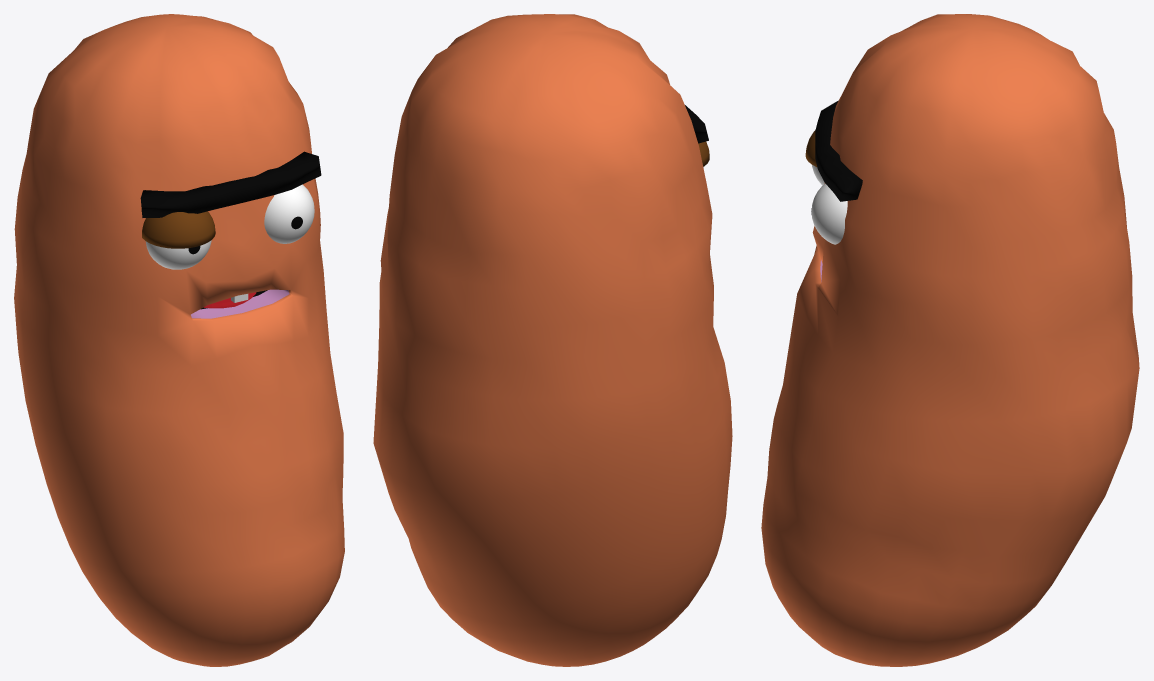
File: Potato.fbx
The picture shows the model from 3 angles, left to right: view 1: azimuth 30°, elevation 25°; view 2: azimuth 150°, elevation 25°; view 3: azimuth 270°, elevation 25°; orthographic projection. The views are drawn at different scales.
Parts seen in each view (by area): view 1: PotatoBody, Cube, Sphere, EyeRight, EyeLeft; view 2: PotatoBody; view 3: PotatoBody, Cube, EyeRight.
Part boxes in pixels (x1,y1,x2,y2): PotatoBody: (14,14,344,666); Cube: (140,151,321,217); Sphere: (142,211,215,248); EyeRight: (264,184,314,243); EyeLeft: (145,240,211,269); PotatoBody: (373,14,732,666); PotatoBody: (761,14,1139,666); Cube: (815,100,862,201); EyeRight: (811,183,847,244).
Size of the model in its own units: 229 by 484 by 267.
